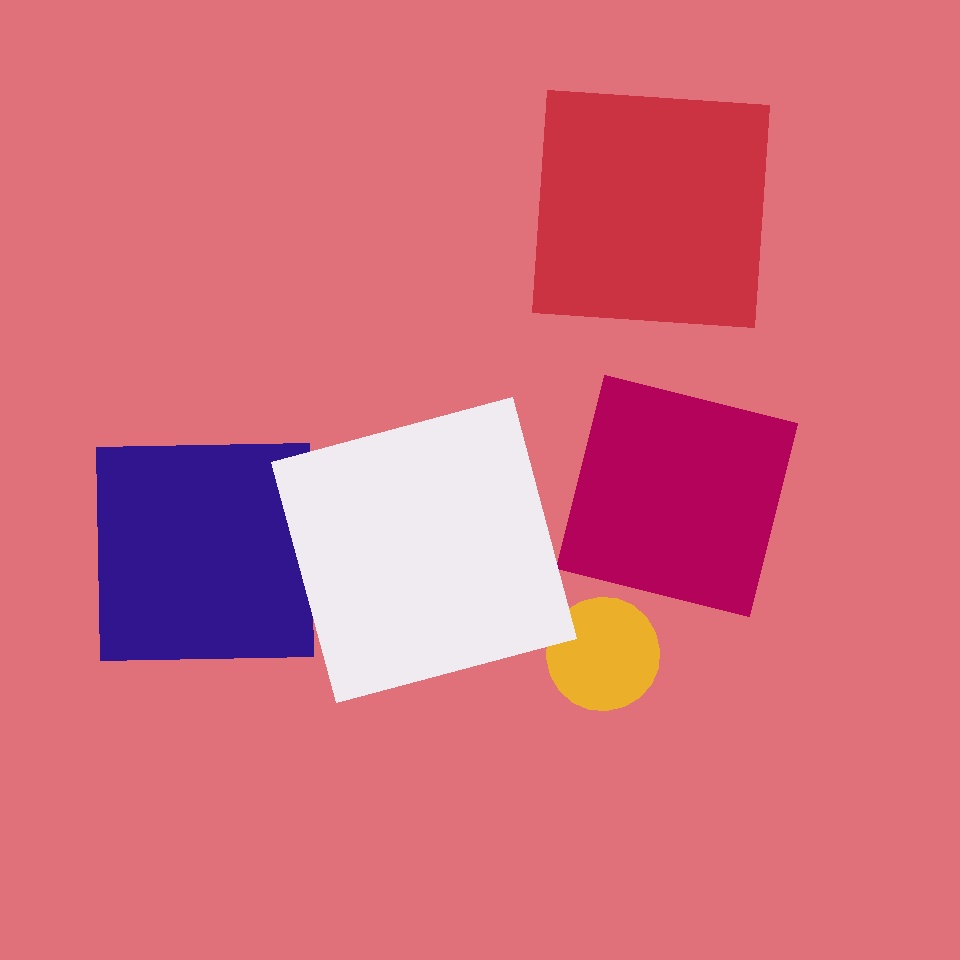circle: (516, 732, 712, 908)
square: (272, 398, 576, 702), (556, 376, 798, 616), (532, 90, 770, 328), (96, 443, 314, 660)
triangle: (508, 636, 648, 777), (546, 598, 660, 710), (505, 61, 612, 169)
